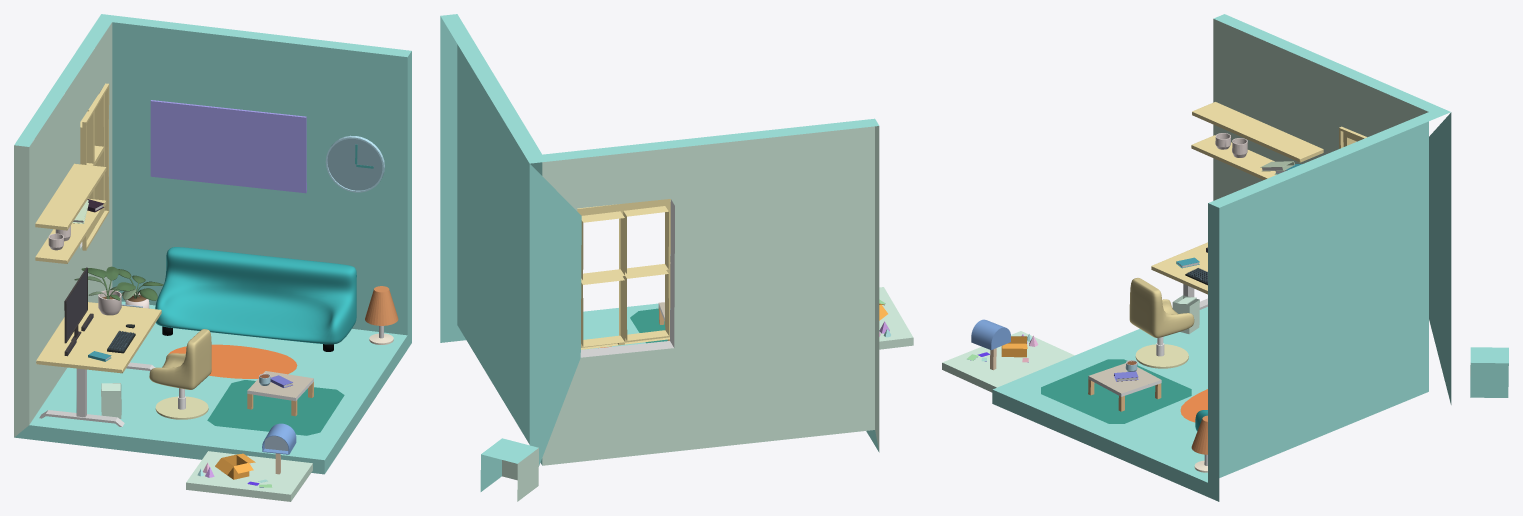
The model's file is finalroomV4.glb.
The picture shows the model from 3 angles, left to right: view 1: azimuth 30°, elevation 25°; view 2: azimuth 150°, elevation 25°; view 3: azimuth 270°, elevation 25°; orthographic projection. The views are drawn at different scales.
Parts seen in each view (by area): view 1: body, sofa, selves, flooritems, Desks, minifloor, clock, chair, tabletops, Computer, mailbox, letters; view 2: body, Cube, minifloor, flooritems; view 3: body, flooritems, selves, minifloor, sofa, chair, Cube, Desks, mailbox, letters.
Part boxes in pixels (x1,y1,x2,y2): body: (14,14,411,474); sofa: (110,247,398,416); selves: (35,100,306,263); flooritems: (101,344,344,435); Desks: (36,302,161,426); minifloor: (186,451,312,501); clock: (325,135,384,192); chair: (149,329,211,389); tabletops: (64,266,135,361); Computer: (64,267,87,343); mailbox: (262,423,296,474); letters: (215,453,272,487); body: (440,14,879,465); Cube: (480,438,538,501); minifloor: (879,287,913,349); flooritems: (598,308,667,348); body: (992,14,1451,501); flooritems: (1041,295,1207,423); selves: (1191,102,1323,179); minifloor: (942,331,1074,392); sofa: (1088,360,1207,472); chair: (1129,278,1194,337); Cube: (1470,347,1508,397); Desks: (1151,242,1207,309); mailbox: (971,319,1010,370); letters: (966,336,1028,362).
Bounding box in the file's own units: 10.59 × 7.49 × 13.08.
